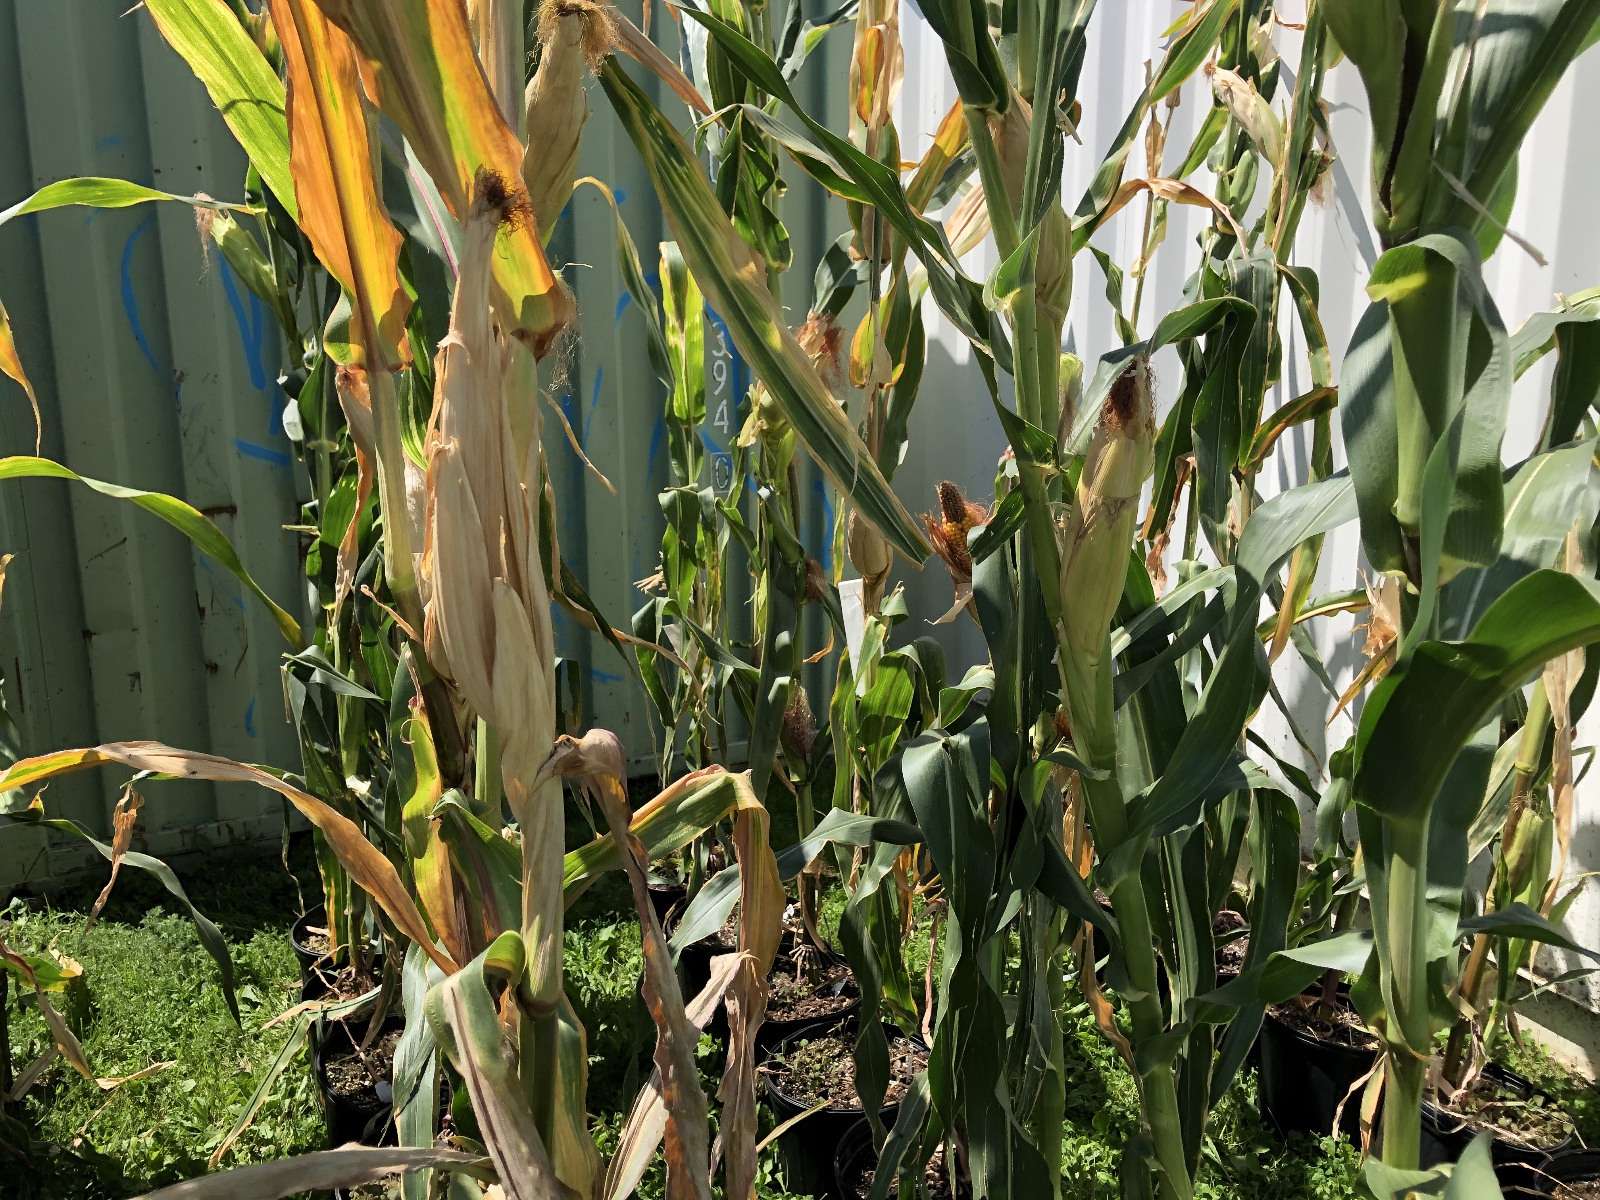ear: (425, 153, 520, 687), (1053, 354, 1151, 654), (522, 3, 614, 245), (186, 183, 289, 308), (752, 314, 842, 437), (1198, 55, 1290, 168), (923, 468, 995, 589), (845, 503, 893, 584)
